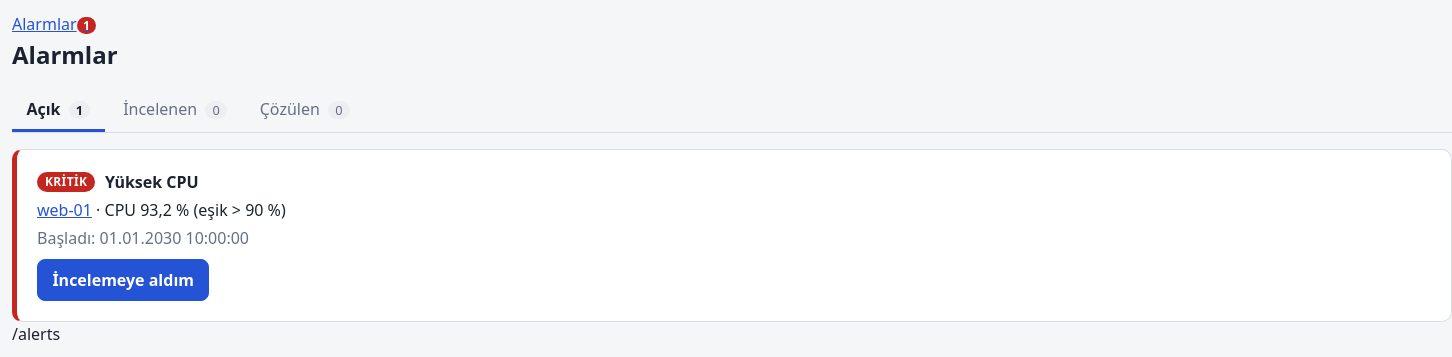
AlertsPage › "İncelemeye aldım": başarıda kart "Açık"tan "İncelenen"e geçer, sayaçlar güncellenir
Click the button "İncelemeye aldım": click(123, 280) [37,259,209,301]
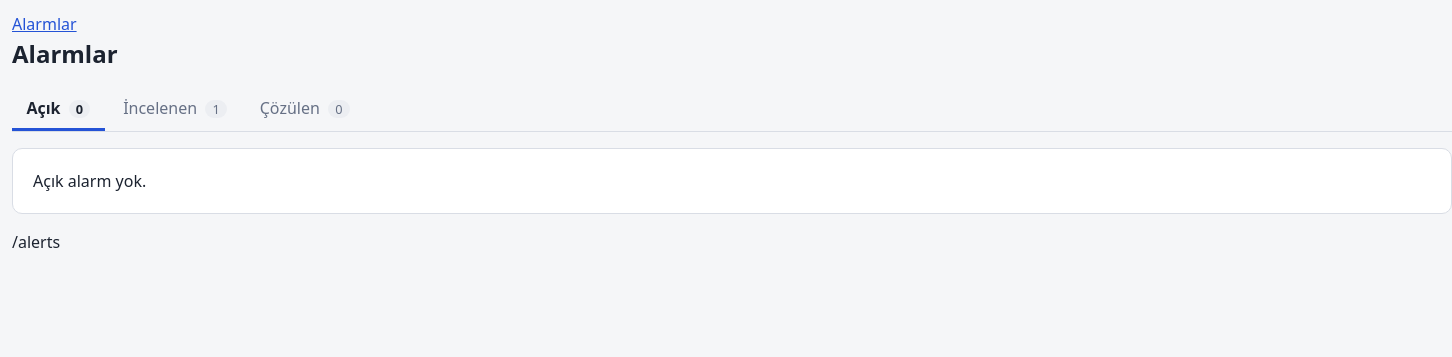
Check: the tab "İncelenen 1" is shown, box [109,88,241,131]
Check: the tab "Açık 0" is shown, box [12,88,105,131]
Check: the text "Açık alarm yok." is shown, box [12,148,1451,214]
